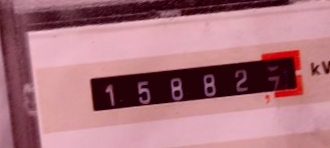1: (102, 78, 118, 107)
2: (232, 64, 251, 94)
5: (134, 76, 154, 104)
7: (265, 71, 282, 90)
8: (200, 68, 218, 98), (167, 73, 185, 102)
screen: (75, 39, 315, 124)
